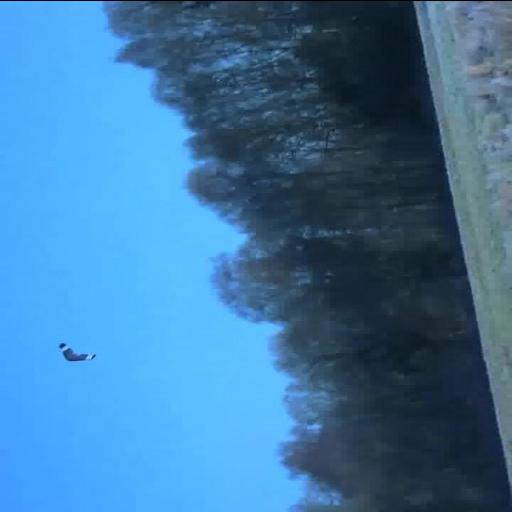uav: (55, 336, 102, 364)
